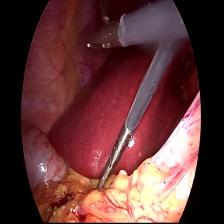Grasper: (93, 120, 137, 198), (83, 0, 122, 56)
